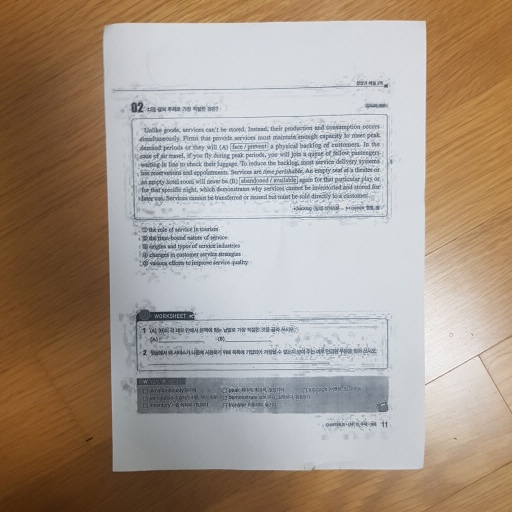Paper_2: (100, 12, 446, 485)
